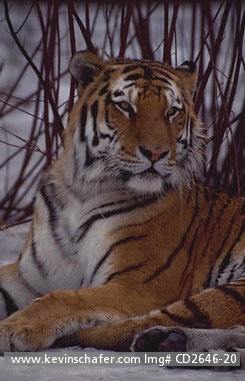Tigre: (40, 51, 222, 326)
